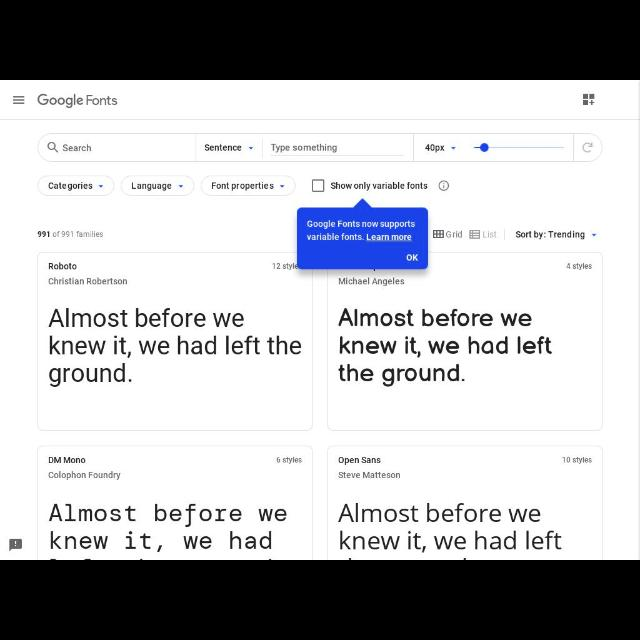button: (573, 134, 603, 164), (12, 94, 26, 106)
checkbox: (311, 180, 325, 192)
icon: (10, 538, 22, 552), (582, 142, 594, 154), (437, 180, 449, 192), (13, 95, 25, 105), (48, 142, 58, 154), (470, 230, 480, 240), (434, 230, 444, 238), (248, 146, 254, 150), (279, 184, 285, 188), (98, 185, 104, 188), (178, 185, 184, 188), (451, 146, 455, 150), (592, 234, 596, 236)
image: (582, 92, 596, 106)
input: (264, 134, 414, 164), (37, 134, 196, 162)
multitab: (36, 132, 604, 164)
panel: (36, 250, 316, 432), (327, 250, 605, 432), (39, 442, 313, 560), (327, 444, 601, 560), (297, 208, 429, 270)
spinner: (201, 176, 297, 197), (197, 133, 263, 163), (120, 176, 196, 197), (38, 176, 114, 196), (548, 232, 598, 240), (425, 143, 457, 153)
text: (50, 306, 304, 388), (337, 308, 555, 388), (50, 501, 288, 559), (338, 502, 566, 560), (306, 220, 416, 242), (38, 93, 118, 109), (48, 471, 122, 482), (330, 182, 428, 190), (270, 143, 338, 153), (338, 277, 404, 287), (49, 278, 128, 286), (212, 182, 274, 192), (37, 230, 103, 238), (338, 456, 382, 466), (130, 182, 172, 192), (338, 472, 402, 478), (48, 182, 94, 190), (47, 456, 87, 464), (204, 144, 242, 152), (516, 230, 546, 240), (548, 231, 584, 239), (276, 456, 304, 466), (62, 144, 92, 152), (562, 457, 592, 465), (48, 262, 76, 270), (566, 262, 592, 270), (272, 264, 298, 270), (426, 144, 444, 152), (406, 254, 418, 262), (447, 232, 463, 238), (483, 232, 497, 238)
textbutton: (406, 253, 420, 263)
